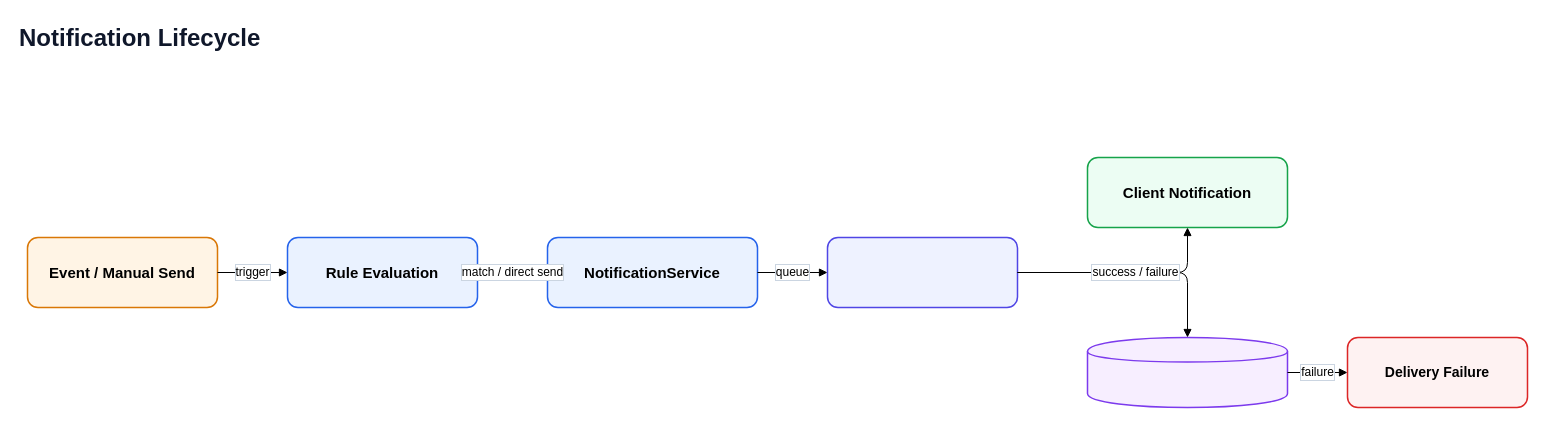
Some shapes in this 1545 by 425 pixel diagram are drawn without their labels. The centre of each missing label's shape, as x and y in pixels:
Audit Outcome: the point at 1187,372
Queue / Delivery: the point at 922,272
